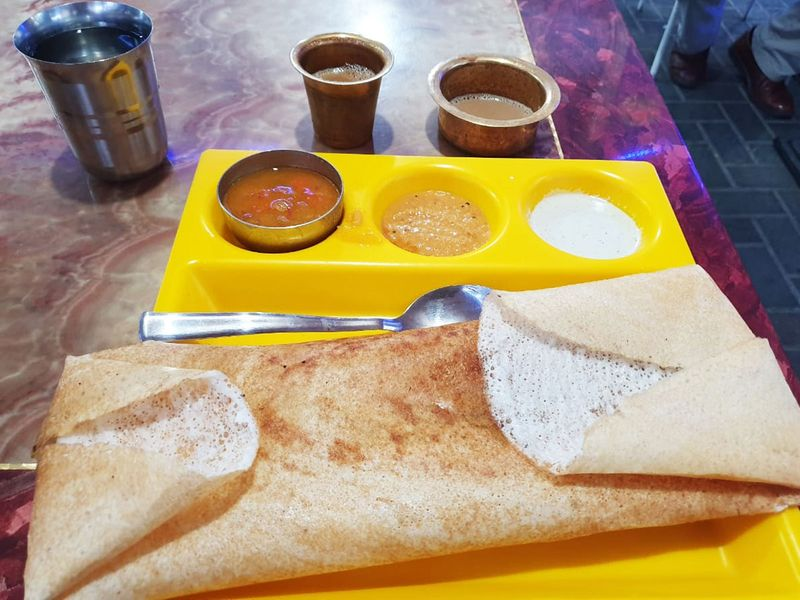dosa: (23, 267, 800, 599)
